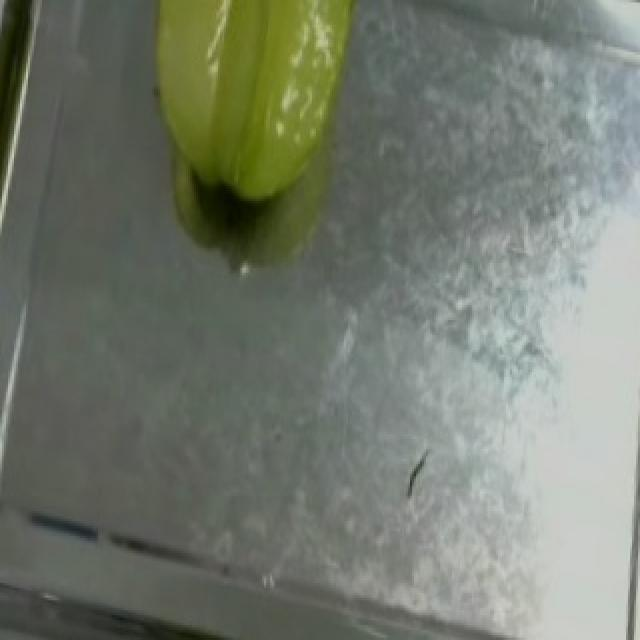fruit: (112, 0, 394, 226)
